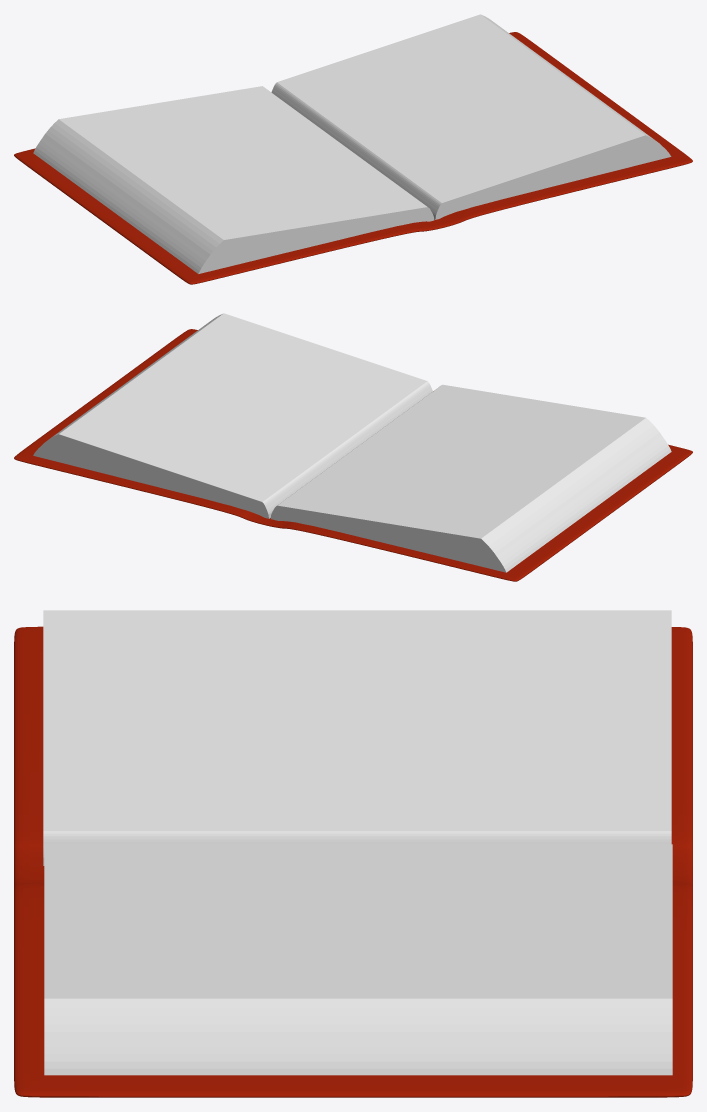
File: openbook.dae
3 views of the same model, one above another, from view 1: azimuth 30°, elevation 25°; view 2: azimuth 150°, elevation 25°; view 3: azimuth 270°, elevation 25° (orthographic). The views are drawn at different scales.
Parts seen in each view (by area): view 1: papier, kaft; view 2: papier, kaft; view 3: papier, kaft.
Part boxes in pixels (x1,y1,x2,y2): papier: (33, 14, 671, 273); kaft: (14, 32, 692, 284); papier: (33, 313, 671, 572); kaft: (14, 329, 692, 581); papier: (43, 610, 672, 1075); kaft: (14, 626, 692, 1097).
Size of the model in its own units: 6.6 by 4.03 by 0.4579.
